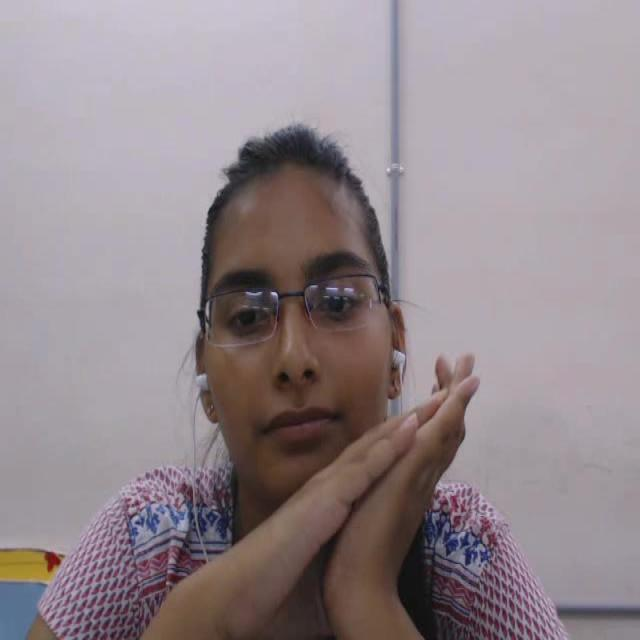Bored: (141, 103, 459, 526)
